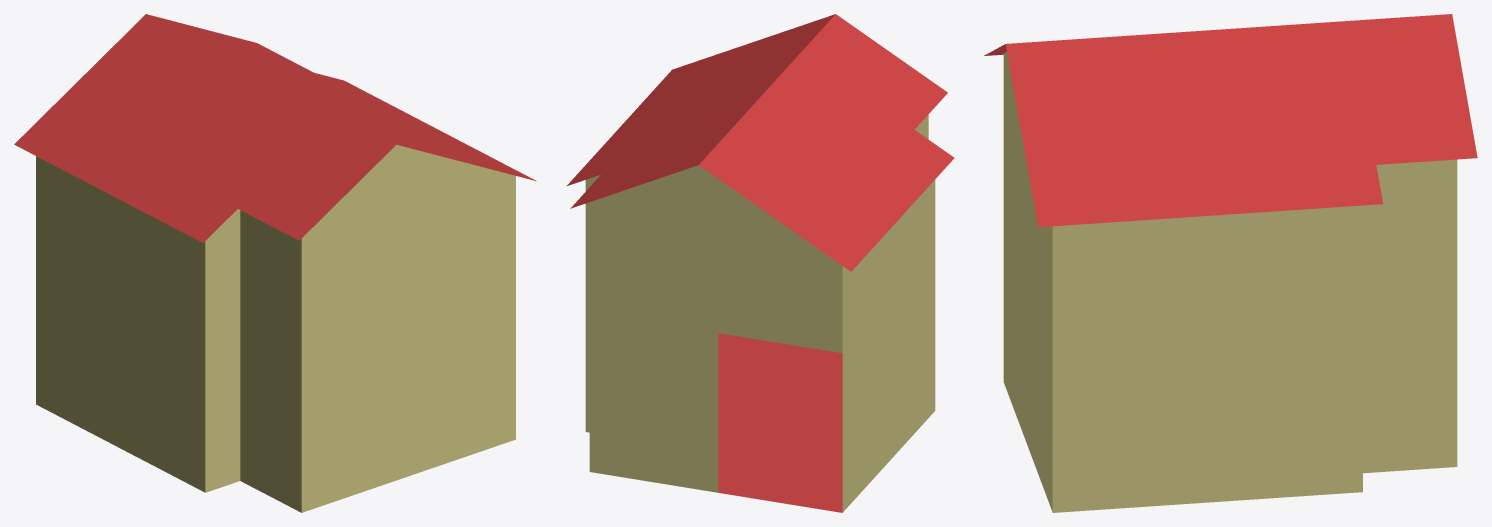
3 views of the same model, side by side, from view 1: azimuth 30°, elevation 25°; view 2: azimuth 150°, elevation 25°; view 3: azimuth 270°, elevation 25° (orthographic). The views are drawn at different scales.
Bounding box in the file's own units: 13.06 × 13.86 × 12.11.
